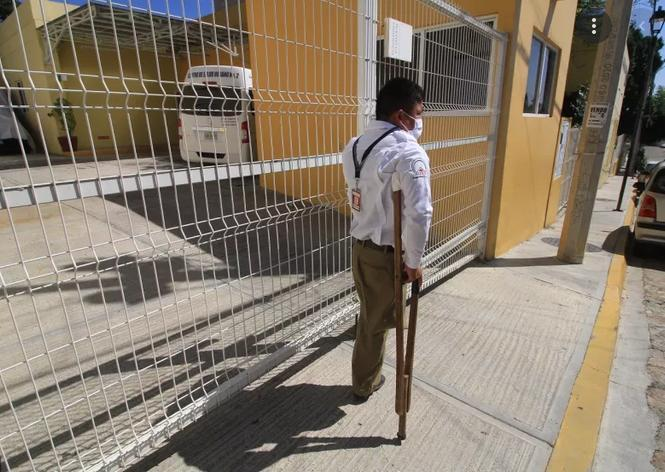crutches: (335, 74, 437, 449)
